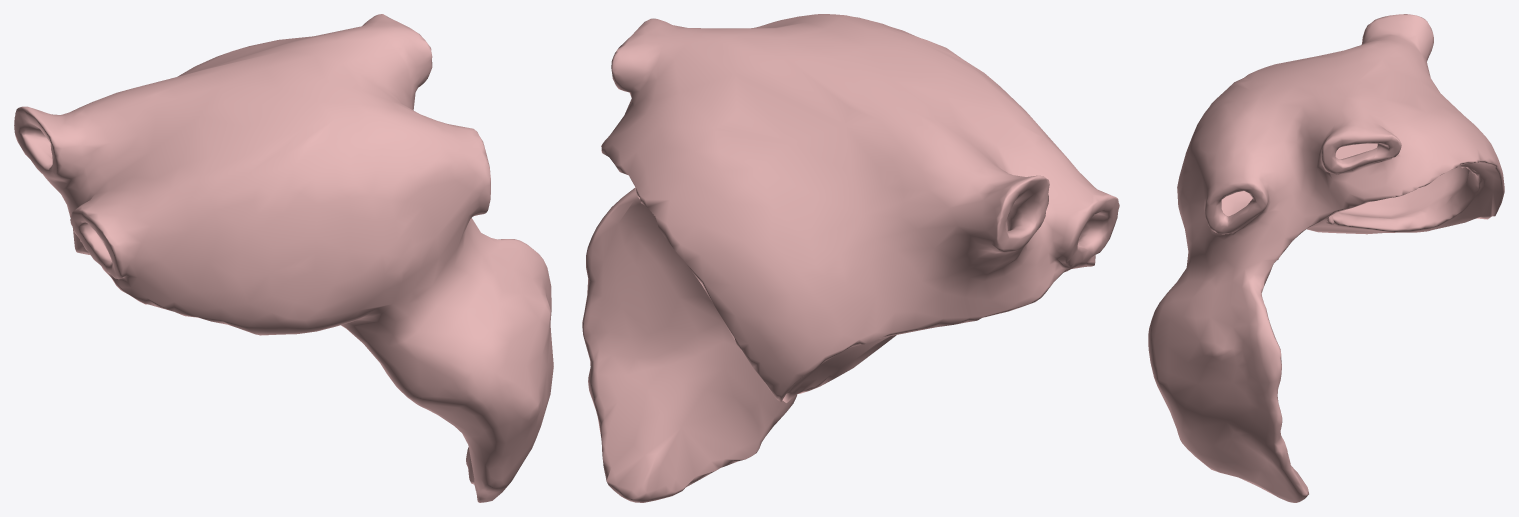
The model's file is atrium-wall-left.glb.
3 views of the same model, side by side, from view 1: azimuth 30°, elevation 25°; view 2: azimuth 150°, elevation 25°; view 3: azimuth 270°, elevation 25° (orthographic). The views are drawn at different scales.
Visible parts, largest first — view 1: structure; view 2: structure; view 3: structure.
Part boxes in pixels (left/top/right/bottom): structure: left=14, top=14, right=553, bottom=502; structure: left=582, top=14, right=1119, bottom=502; structure: left=1148, top=14, right=1504, bottom=502.
Bounding box in the file's own units: 86.26 × 81.23 × 73.04.
